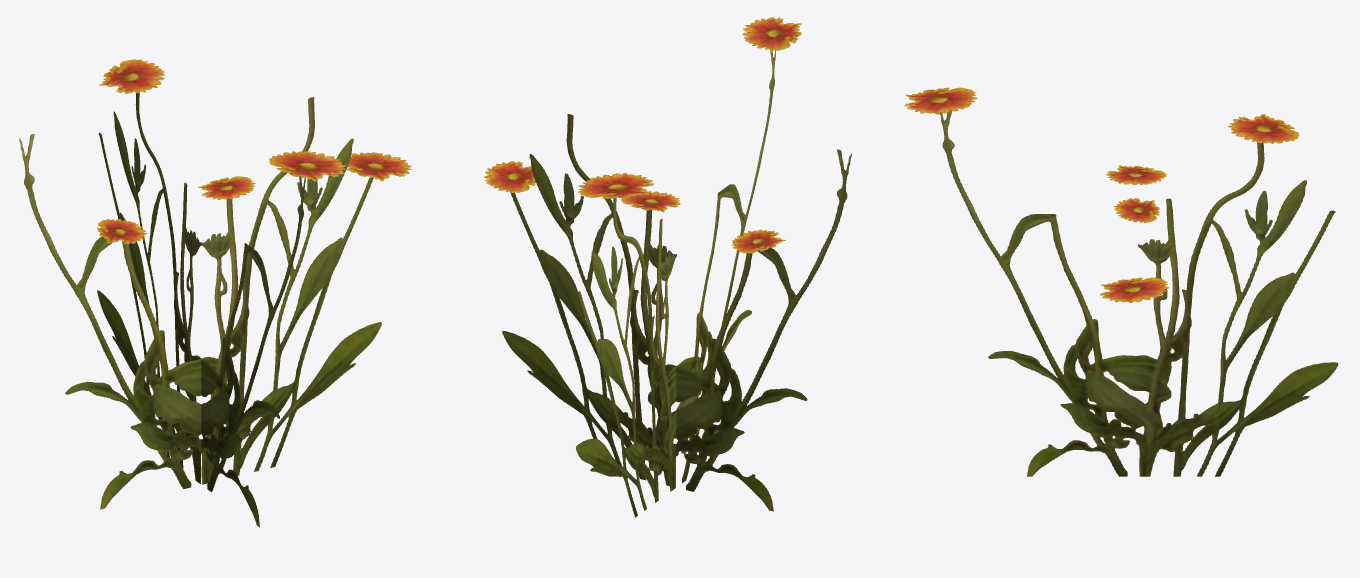
File: SC_yonghengsenlin_42.FBX
3 views of the same model, side by side, from view 1: azimuth 30°, elevation 25°; view 2: azimuth 150°, elevation 25°; view 3: azimuth 270°, elevation 25° (orthographic). The views are drawn at different scales.
Parts seen in each view (by area): view 1: SC_yonghengsenlin_42; view 2: SC_yonghengsenlin_42; view 3: SC_yonghengsenlin_42.
Boxes of the visible parts, x1=… form: SC_yonghengsenlin_42: x1=19, y1=59, x2=411, y2=527; SC_yonghengsenlin_42: x1=484, y1=17, x2=851, y2=517; SC_yonghengsenlin_42: x1=904, y1=87, x2=1338, y2=476.
Size of the model in its own units: 132 by 121 by 134.
